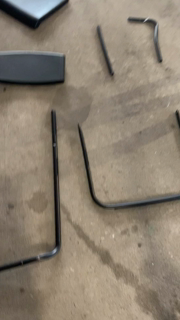L pipe: (126, 16, 165, 67)
i pipe: (93, 23, 118, 81)
